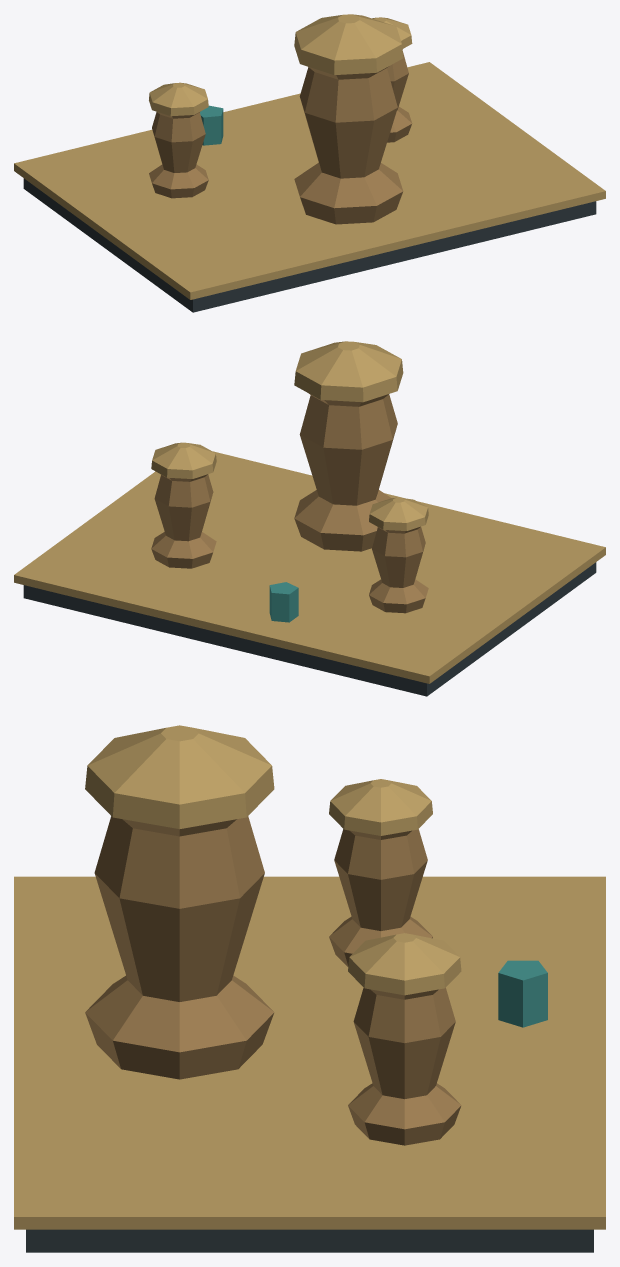
File: VIC_H06_CEREMONIAL_SET_Roblox.fbx
3 views of the same model, one above another, from view 1: azimuth 30°, elevation 25°; view 2: azimuth 150°, elevation 25°; view 3: azimuth 270°, elevation 25° (orthographic). The views are drawn at different scales.
Parts seen in each view (by area): view 1: VIC_H06_CEREMONIAL_SET__Brass.001, VIC_H06_CEREMONIAL_SET__Bronze.001, VIC_H06_CEREMONIAL_SET__Charcoal.001, VIC_H06_CEREMONIAL_SET__Gem.001; view 2: VIC_H06_CEREMONIAL_SET__Brass.001, VIC_H06_CEREMONIAL_SET__Bronze.001, VIC_H06_CEREMONIAL_SET__Charcoal.001, VIC_H06_CEREMONIAL_SET__Gem.001; view 3: VIC_H06_CEREMONIAL_SET__Brass.001, VIC_H06_CEREMONIAL_SET__Bronze.001, VIC_H06_CEREMONIAL_SET__Charcoal.001, VIC_H06_CEREMONIAL_SET__Gem.001.
Boxes of the visible parts, x1,y1,x2,y2 form: VIC_H06_CEREMONIAL_SET__Brass.001: (14,14,605,299); VIC_H06_CEREMONIAL_SET__Bronze.001: (149,49,412,224); VIC_H06_CEREMONIAL_SET__Charcoal.001: (23,178,596,312); VIC_H06_CEREMONIAL_SET__Gem.001: (200,105,223,145); VIC_H06_CEREMONIAL_SET__Brass.001: (14,341,605,683); VIC_H06_CEREMONIAL_SET__Bronze.001: (151,393,428,613); VIC_H06_CEREMONIAL_SET__Charcoal.001: (23,562,596,696); VIC_H06_CEREMONIAL_SET__Gem.001: (269,582,298,622); VIC_H06_CEREMONIAL_SET__Brass.001: (14,725,605,1229); VIC_H06_CEREMONIAL_SET__Bronze.001: (85,816,461,1145); VIC_H06_CEREMONIAL_SET__Charcoal.001: (26,1229,593,1252); VIC_H06_CEREMONIAL_SET__Gem.001: (498,960,547,1027).
Size of the model in its own units: 3.4 by 1.65 by 2.5.
